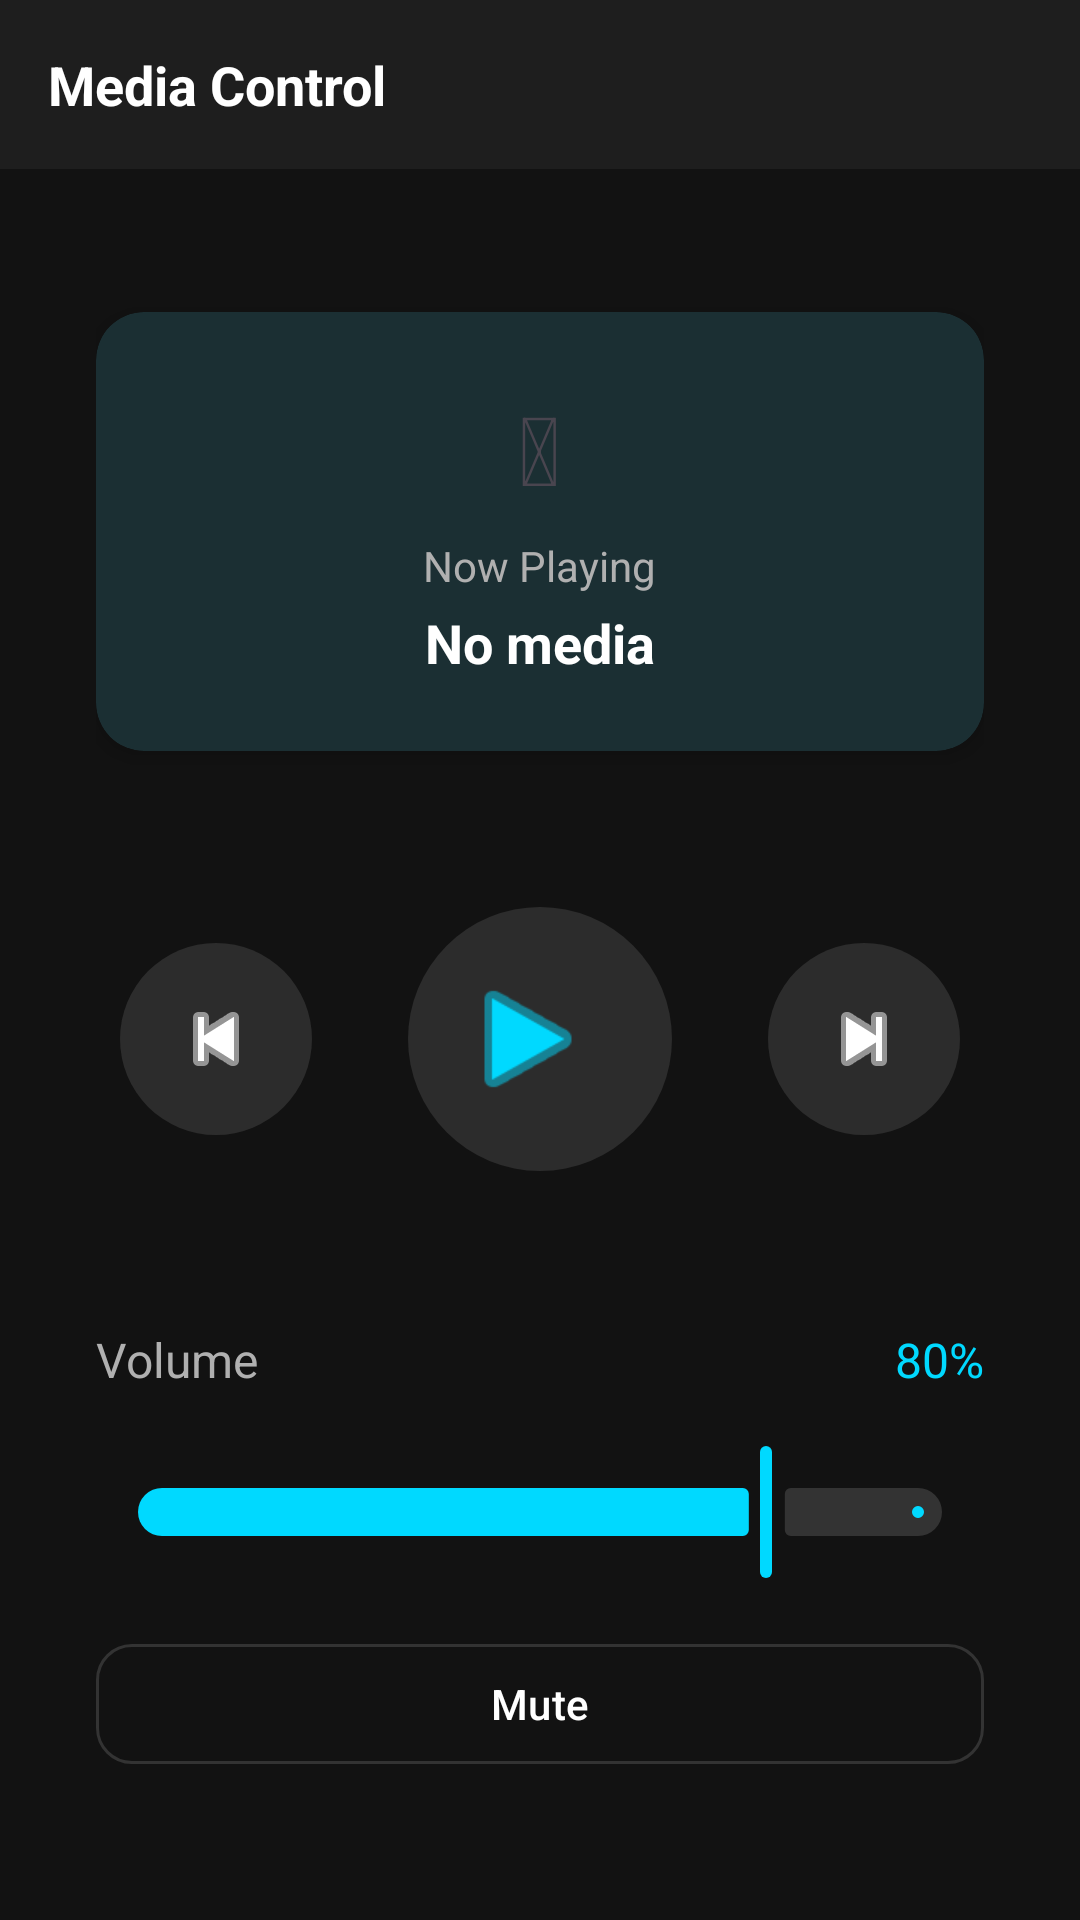

Icons on this 1080×1920 Android screen, each with its box as (x1, y1, x2, y2):
next: (769, 943, 959, 1135)
play: (409, 907, 671, 1171)
previous: (121, 943, 311, 1135)
